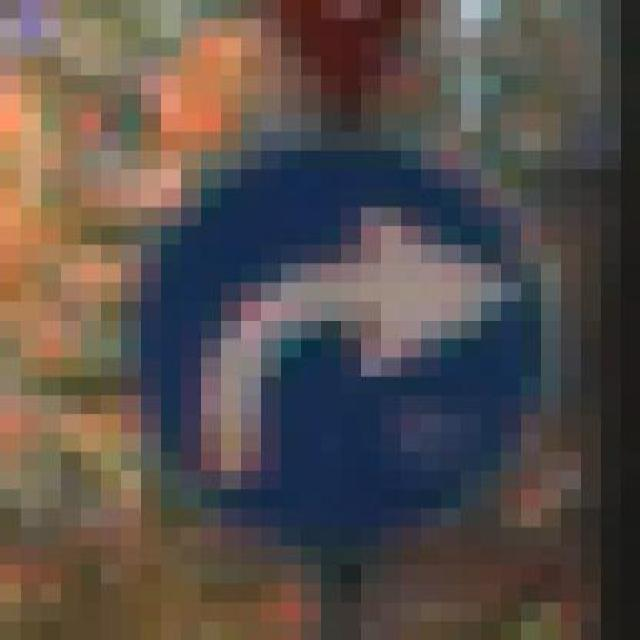Turn right ahead: (100, 112, 580, 565)
